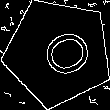O_SW: (25, 22, 91, 83)
